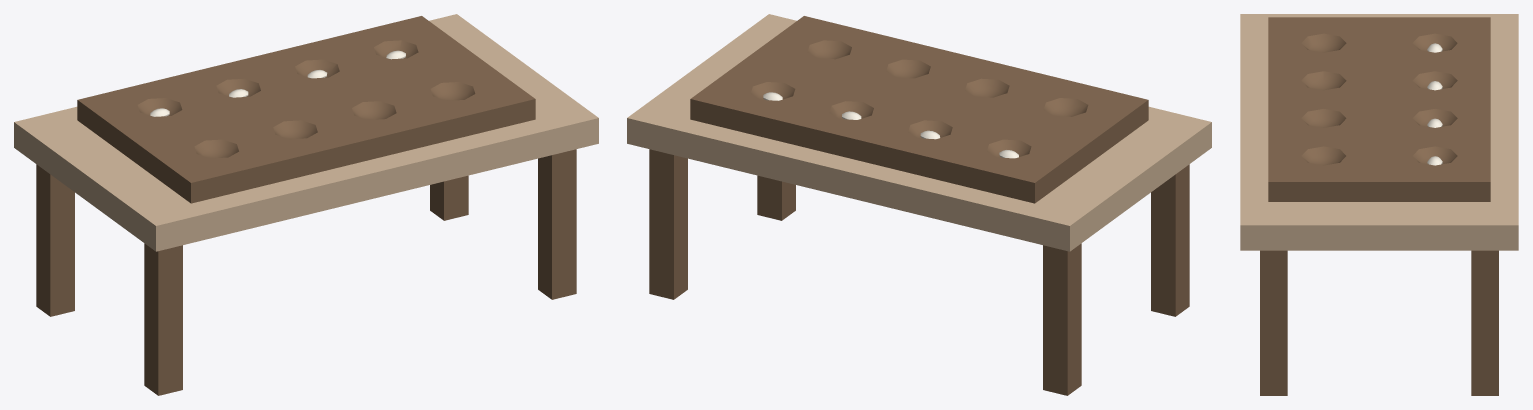
Rendered from Dampar_Table.fbx.
3 views of the same model, side by side, from view 1: azimuth 30°, elevation 25°; view 2: azimuth 150°, elevation 25°; view 3: azimuth 270°, elevation 25° (orthographic). The views are drawn at different scales.
Parts seen in each view (by area): view 1: Dampar_Table; view 2: Dampar_Table; view 3: Dampar_Table.
Boxes of the visible parts, bbox=[...] form: Dampar_Table: bbox=[14, 14, 598, 395]; Dampar_Table: bbox=[627, 14, 1211, 395]; Dampar_Table: bbox=[1240, 14, 1518, 395].
Bounding box in the file's own units: 0.9 × 0.39 × 0.5.
